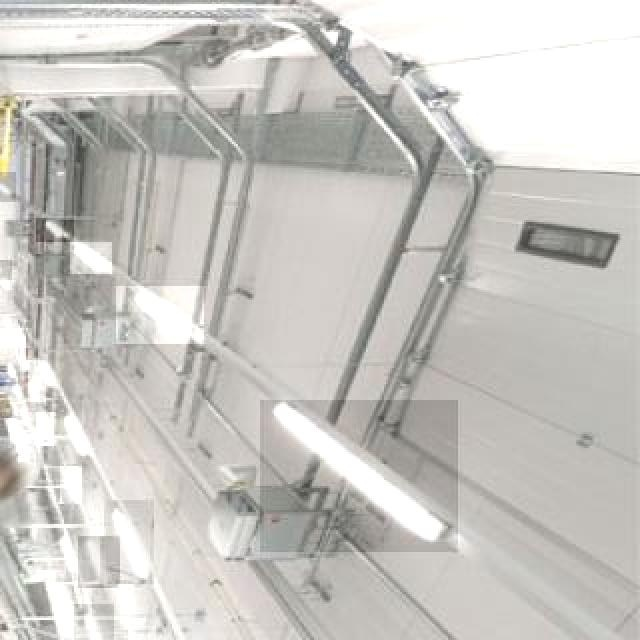fluorescent tube: (269, 393, 458, 549), (116, 289, 211, 346), (53, 411, 111, 469), (111, 503, 149, 581), (64, 247, 120, 285), (82, 544, 116, 587), (36, 213, 84, 240), (82, 612, 112, 640), (130, 638, 178, 640)
